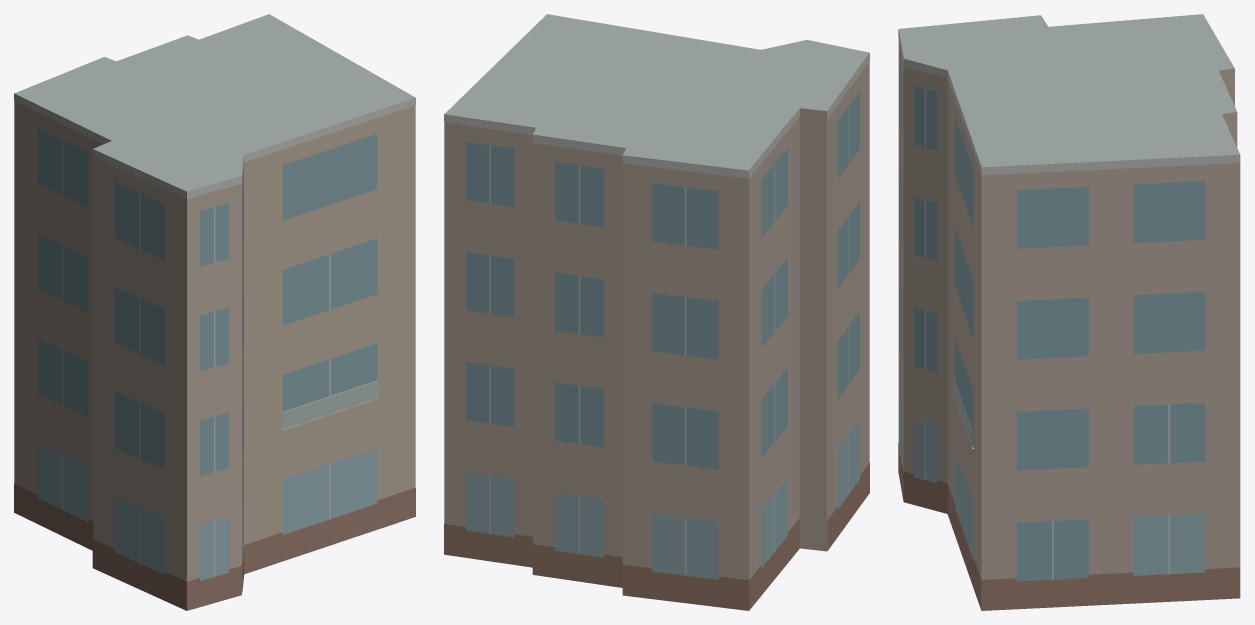
Rendered from survey-upis-33032010.glb.
The picture shows the model from 3 angles, left to right: view 1: azimuth 30°, elevation 25°; view 2: azimuth 150°, elevation 25°; view 3: azimuth 270°, elevation 25°; orthographic projection. The views are drawn at different scales.
Visible parts, largest first — view 1: survey-upis-33032010.tmp; view 2: survey-upis-33032010.tmp; view 3: survey-upis-33032010.tmp.
Part boxes in pixels (<box>): survey-upis-33032010.tmp: <box>14,14,415,610</box>; survey-upis-33032010.tmp: <box>444,14,869,610</box>; survey-upis-33032010.tmp: <box>898,14,1240,610</box>.
Size of the model in its own units: 9.87 by 13.3 by 9.3.
